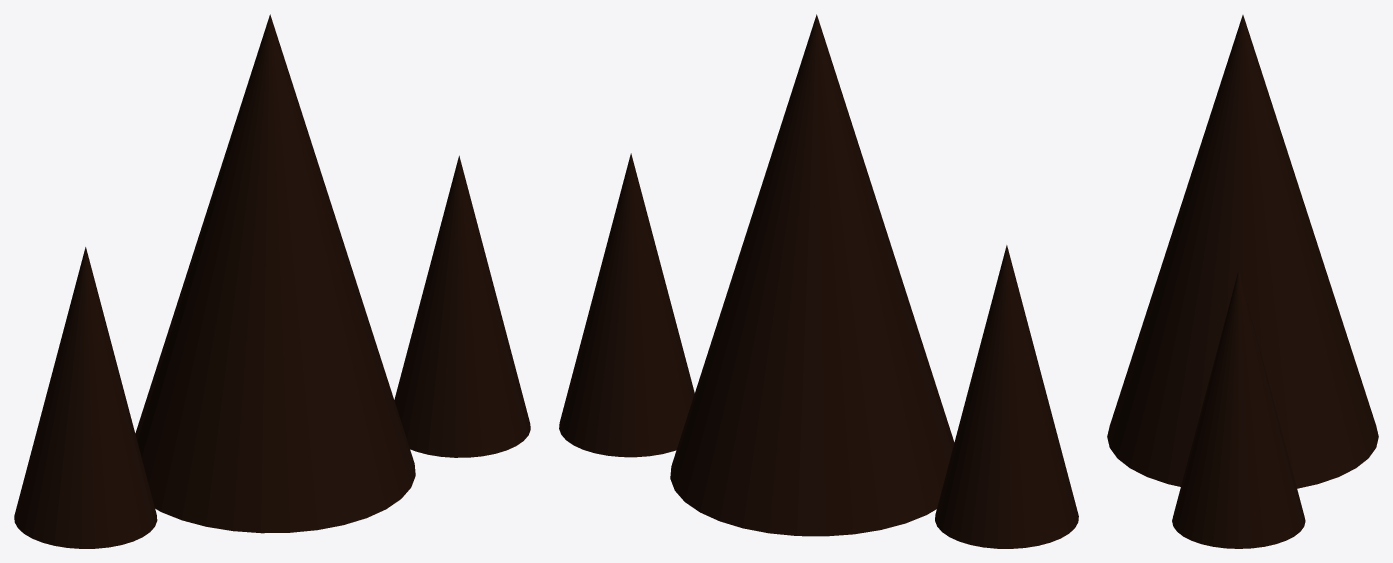
The model's file is Spike_4.fbx.
The picture shows the model from 3 angles, left to right: view 1: azimuth 30°, elevation 25°; view 2: azimuth 150°, elevation 25°; view 3: azimuth 270°, elevation 25°; orthographic projection. The views are drawn at different scales.
Visible parts, largest first — view 1: Spike4big, Spike4small; view 2: Spike4big, Spike4small; view 3: Spike4big, Spike4small.
Part boxes in pixels (x1,y1,x2,y2): Spike4big: (135,14,415,533); Spike4small: (14,155,530,548); Spike4big: (670,14,954,536); Spike4small: (559,153,1078,548); Spike4big: (1107,15,1378,488); Spike4small: (1172,269,1305,548).
Bounding box in the file's own units: 117 × 103 × 59.78.
